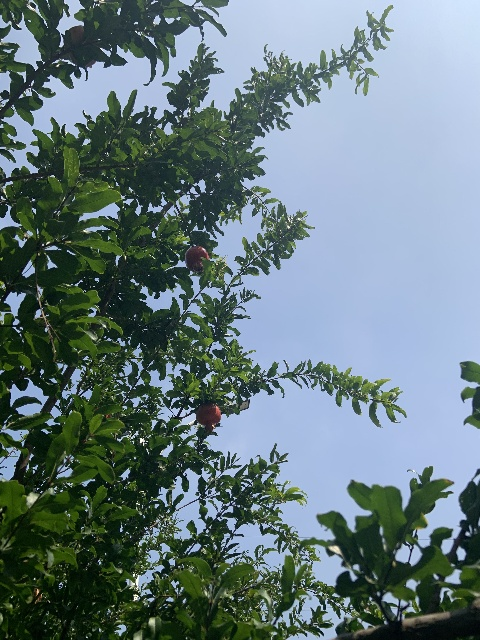ripe: (195, 403, 221, 433), (184, 245, 209, 272)
